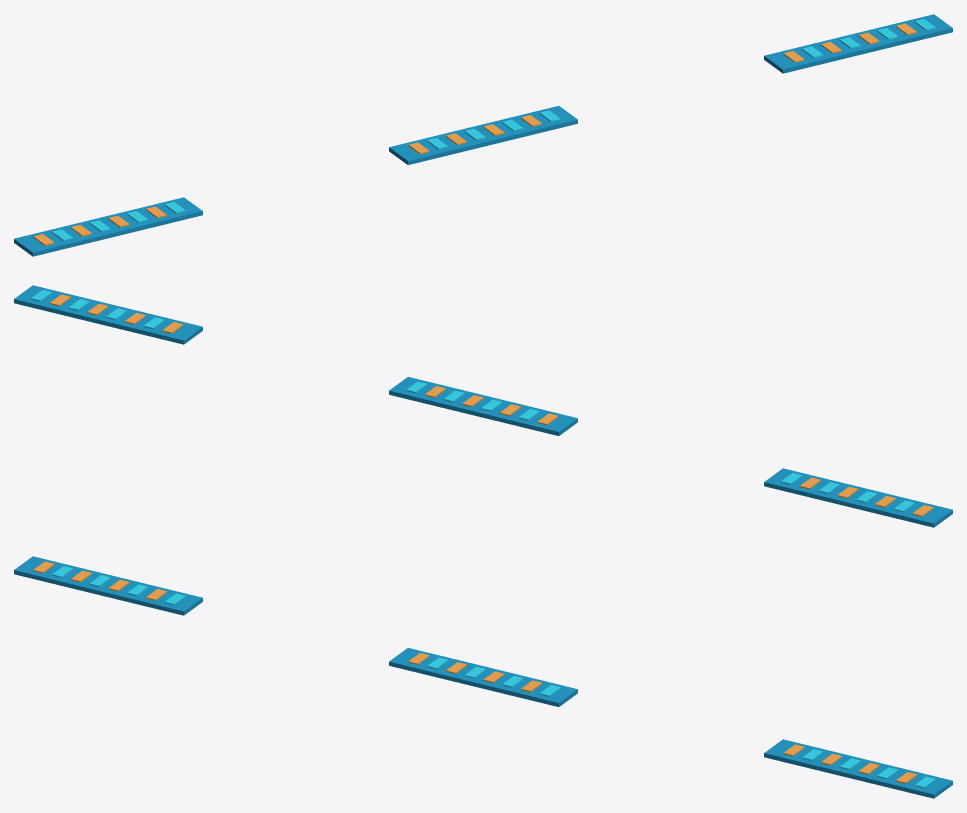
Rendered from 27_PS_Table_OperatorControlPads.fbx.
3 renders of one model, top to bottom at view 1: azimuth 30°, elevation 25°; view 2: azimuth 150°, elevation 25°; view 3: azimuth 330°, elevation 25°, orthographic.
Visible parts, largest first — view 1: PS_Table_OperatorControlPads; view 2: PS_Table_OperatorControlPads; view 3: PS_Table_OperatorControlPads.
Part boxes in pixels (x1,y1,x2,y2): PS_Table_OperatorControlPads: (14,14,952,256); PS_Table_OperatorControlPads: (14,285,952,527); PS_Table_OperatorControlPads: (14,556,952,798).
Bounding box in the file's own units: 785 × 4.5 × 28.
